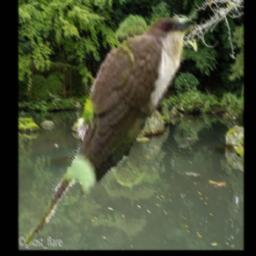Cuckoo: (25, 15, 195, 245)
